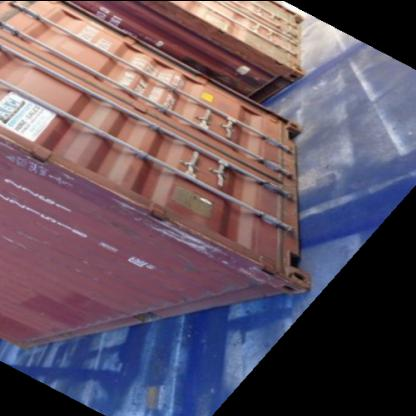Damage: (154, 218, 219, 258), (27, 158, 86, 202), (226, 254, 266, 286), (104, 190, 144, 222), (1, 227, 29, 253), (0, 132, 16, 161)
